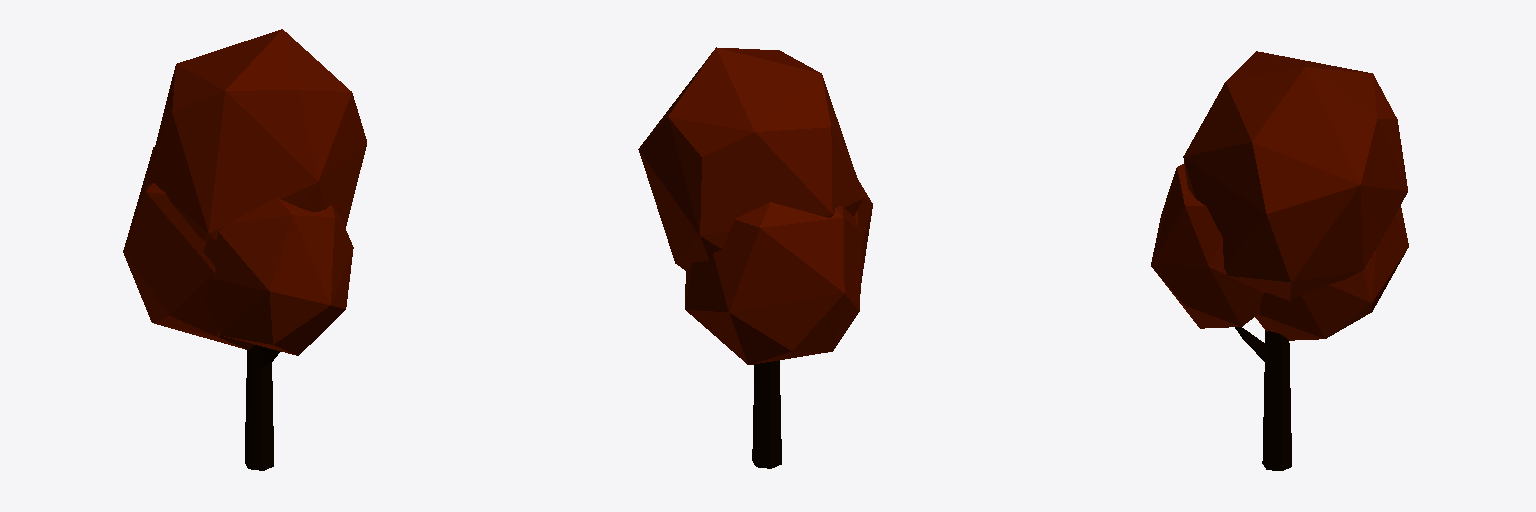
The model's file is tree5.obj.
3 renders of one model, left to right at view 1: azimuth 30°, elevation 25°; view 2: azimuth 150°, elevation 25°; view 3: azimuth 270°, elevation 25°, orthographic.
Parts seen in each view (by area): view 1: Icosphere.003_Icosphere.018, Cylinder.004_Cylinder.011; view 2: Icosphere.003_Icosphere.018, Cylinder.004_Cylinder.011; view 3: Icosphere.003_Icosphere.018, Cylinder.004_Cylinder.011.
Boxes of the visible parts, x1,y1,x2,y2 form: Icosphere.003_Icosphere.018: [123, 29, 366, 355]; Cylinder.004_Cylinder.011: [245, 345, 280, 470]; Icosphere.003_Icosphere.018: [638, 47, 872, 364]; Cylinder.004_Cylinder.011: [752, 360, 781, 468]; Icosphere.003_Icosphere.018: [1151, 51, 1408, 340]; Cylinder.004_Cylinder.011: [1235, 327, 1291, 470].
Size of the model in its own units: 7.69 by 14.6 by 8.21.